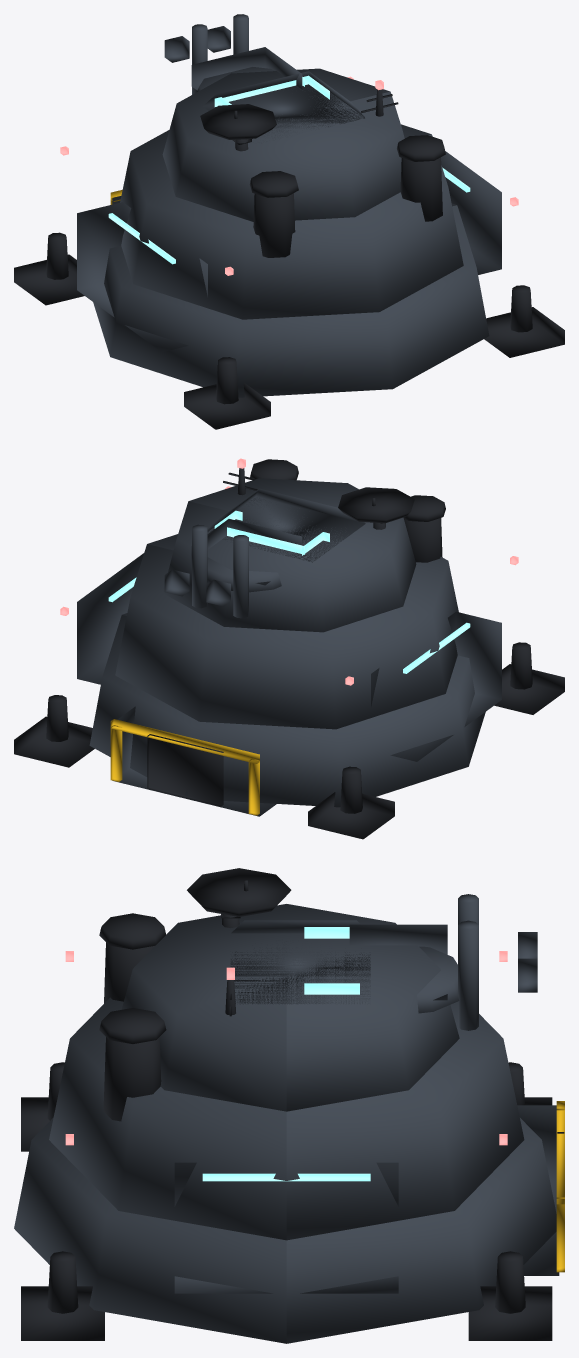
Rendered from command_center.glb.
The picture shows the model from 3 angles, top to bottom: view 1: azimuth 30°, elevation 25°; view 2: azimuth 150°, elevation 25°; view 3: azimuth 270°, elevation 25°; orthographic projection. The views are drawn at different scales.
Parts seen in each view (by area): view 1: FortressMesh; view 2: FortressMesh; view 3: FortressMesh.
Part boxes in pixels (x1,y1,x2,y2): FortressMesh: (14, 14, 564, 429); FortressMesh: (14, 458, 564, 839); FortressMesh: (14, 868, 564, 1343).
Size of the model in its own units: 7.8 by 5 by 7.88.
